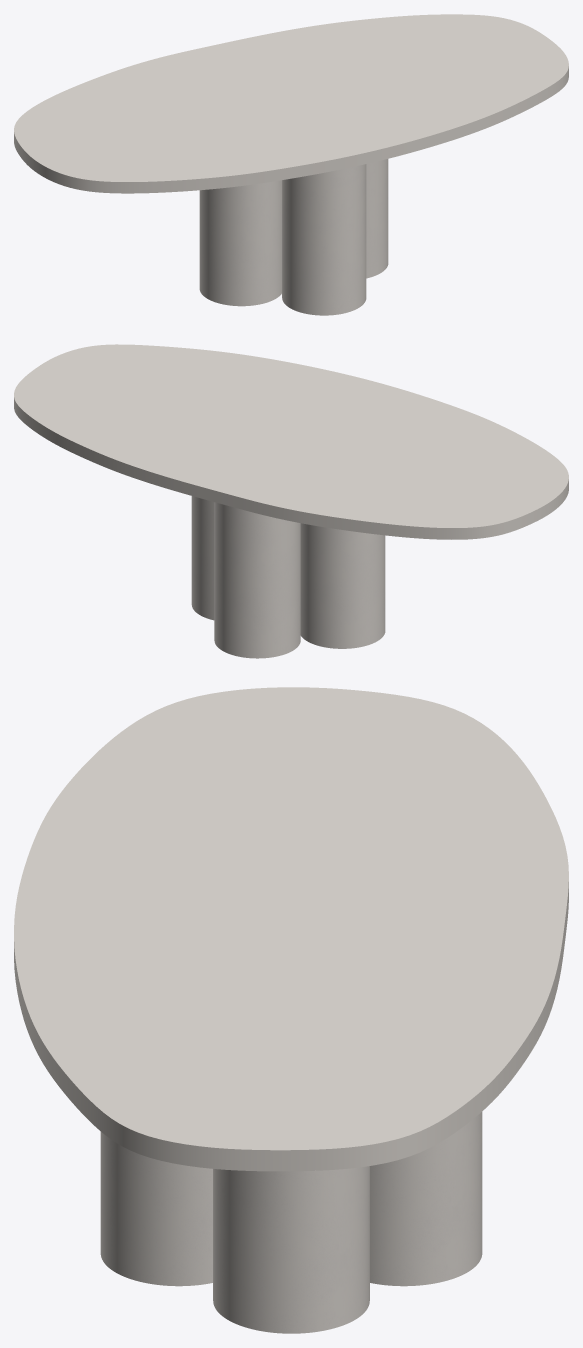
Rendered from pearlwhite_danish_standard_secondtable.glb.
3 renders of one model, top to bottom at view 1: azimuth 30°, elevation 25°; view 2: azimuth 150°, elevation 25°; view 3: azimuth 270°, elevation 25°, orthographic. The views are drawn at different scales.
Visible parts, largest first — view 1: standard_danish, secondtable; view 2: standard_danish, secondtable; view 3: standard_danish, secondtable.
Part boxes in pixels (bbox=[...]): standard_danish: bbox=[14, 14, 568, 193]; secondtable: bbox=[199, 159, 388, 315]; standard_danish: bbox=[14, 344, 568, 539]; secondtable: bbox=[191, 496, 385, 658]; standard_danish: bbox=[14, 687, 568, 1171]; secondtable: bbox=[100, 1112, 482, 1333].
Size of the model in its own units: 7.5 by 2.5 by 3.8.
Materials: 1 (1 with a texture image).
